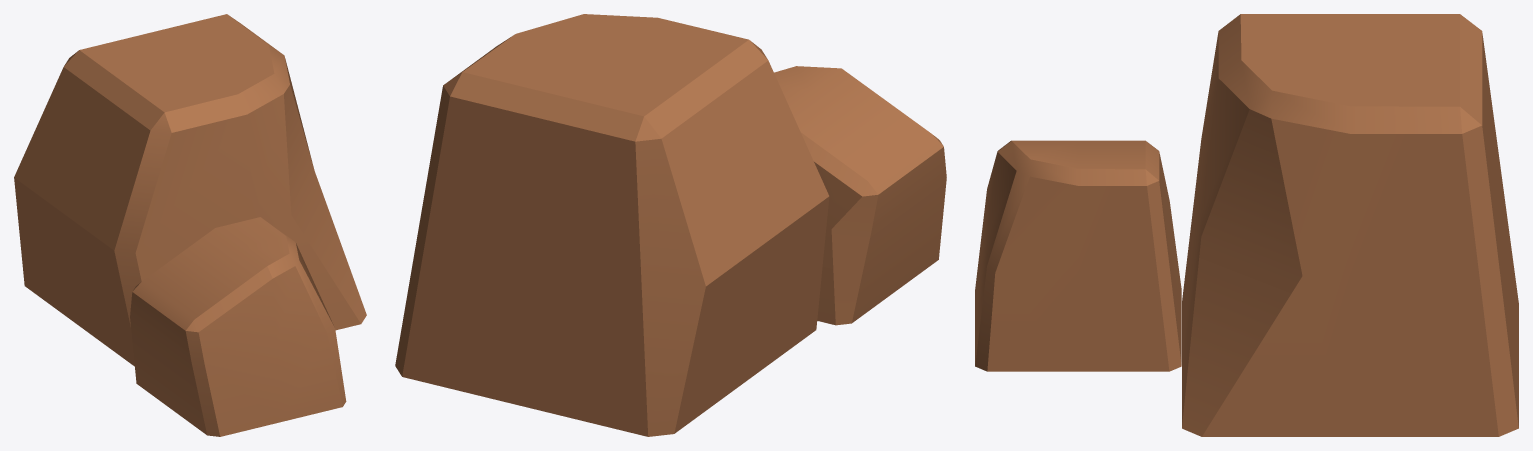
3 renders of one model, left to right at view 1: azimuth 30°, elevation 25°; view 2: azimuth 150°, elevation 25°; view 3: azimuth 270°, elevation 25°, orthographic. The views are drawn at different scales.
Parts seen in each view (by area): view 1: Default; view 2: Default; view 3: Default.
Part boxes in pixels (x1,y1,x2,y2): Default: (14, 14, 366, 436); Default: (395, 14, 946, 436); Default: (975, 14, 1518, 436).
Bounding box in the file's own units: 28.77 × 25.5 × 41.14.
